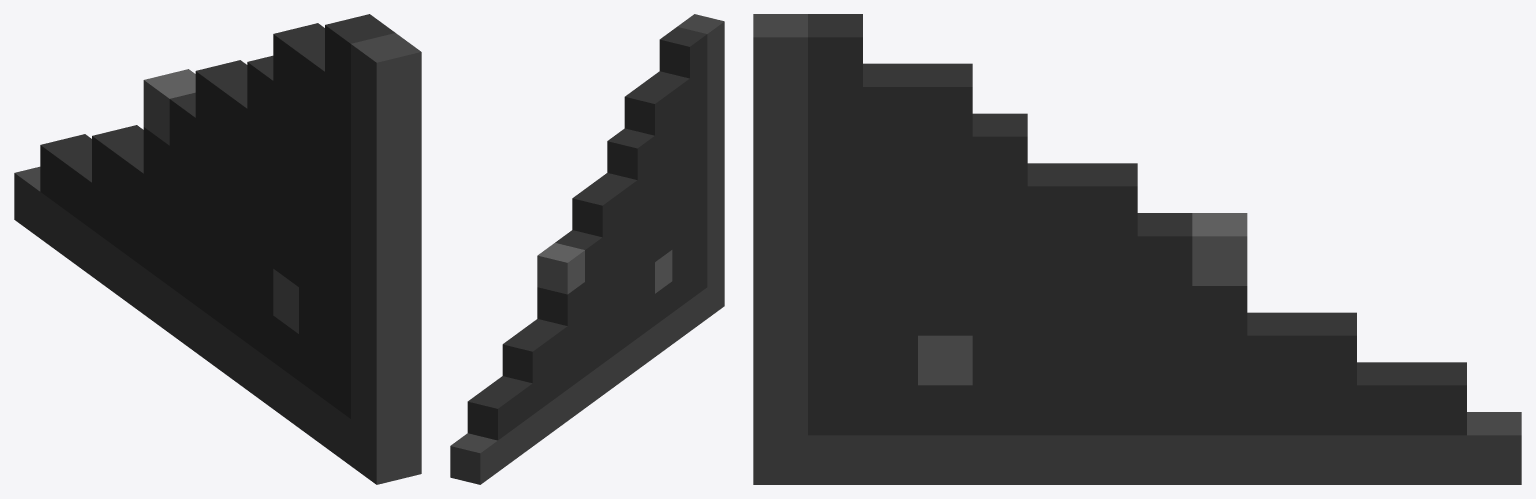
The picture shows the model from 3 angles, left to right: view 1: azimuth 30°, elevation 25°; view 2: azimuth 150°, elevation 25°; view 3: azimuth 270°, elevation 25°; orthographic projection. The views are drawn at different scales.
Parts seen in each view (by area): view 1: TV4; view 2: TV4; view 3: TV4.
Boxes of the visible parts, x1=… form: TV4: x1=14, y1=14, x2=421, y2=484; TV4: x1=450, y1=14, x2=724, y2=484; TV4: x1=753, y1=14, x2=1521, y2=484.
Bounding box in the file's own units: 1 × 9 × 14.
Materials: 1 (1 with a texture image).
